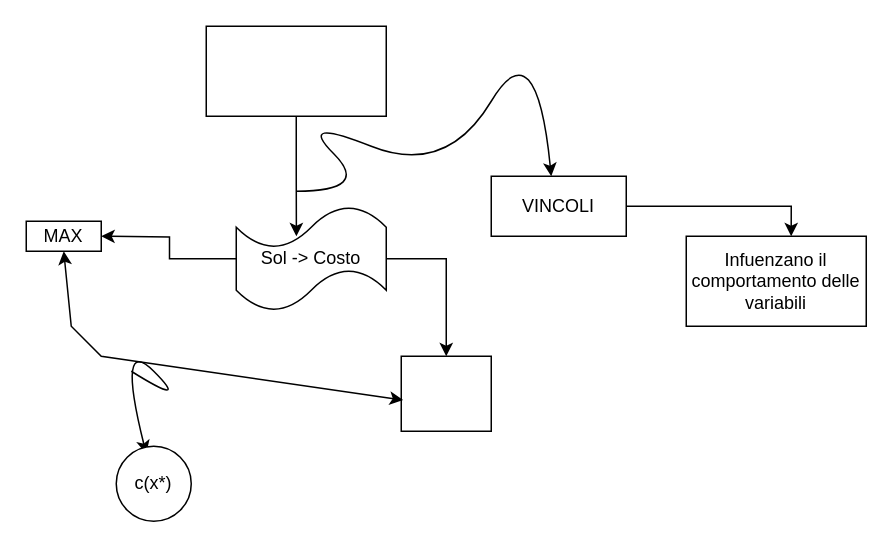
This 893x548 diagram has some shape labels left out. The shapes that lost their labels are listed below. From the top down, each one's centre as x and y in pixels, then its label:
pixel 295 70: PROBLEMI E MODELLI
pixel 445 393: MIN
